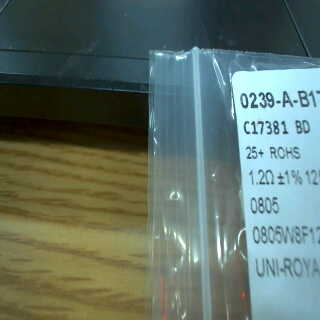1.2R: (246, 167, 281, 217)
